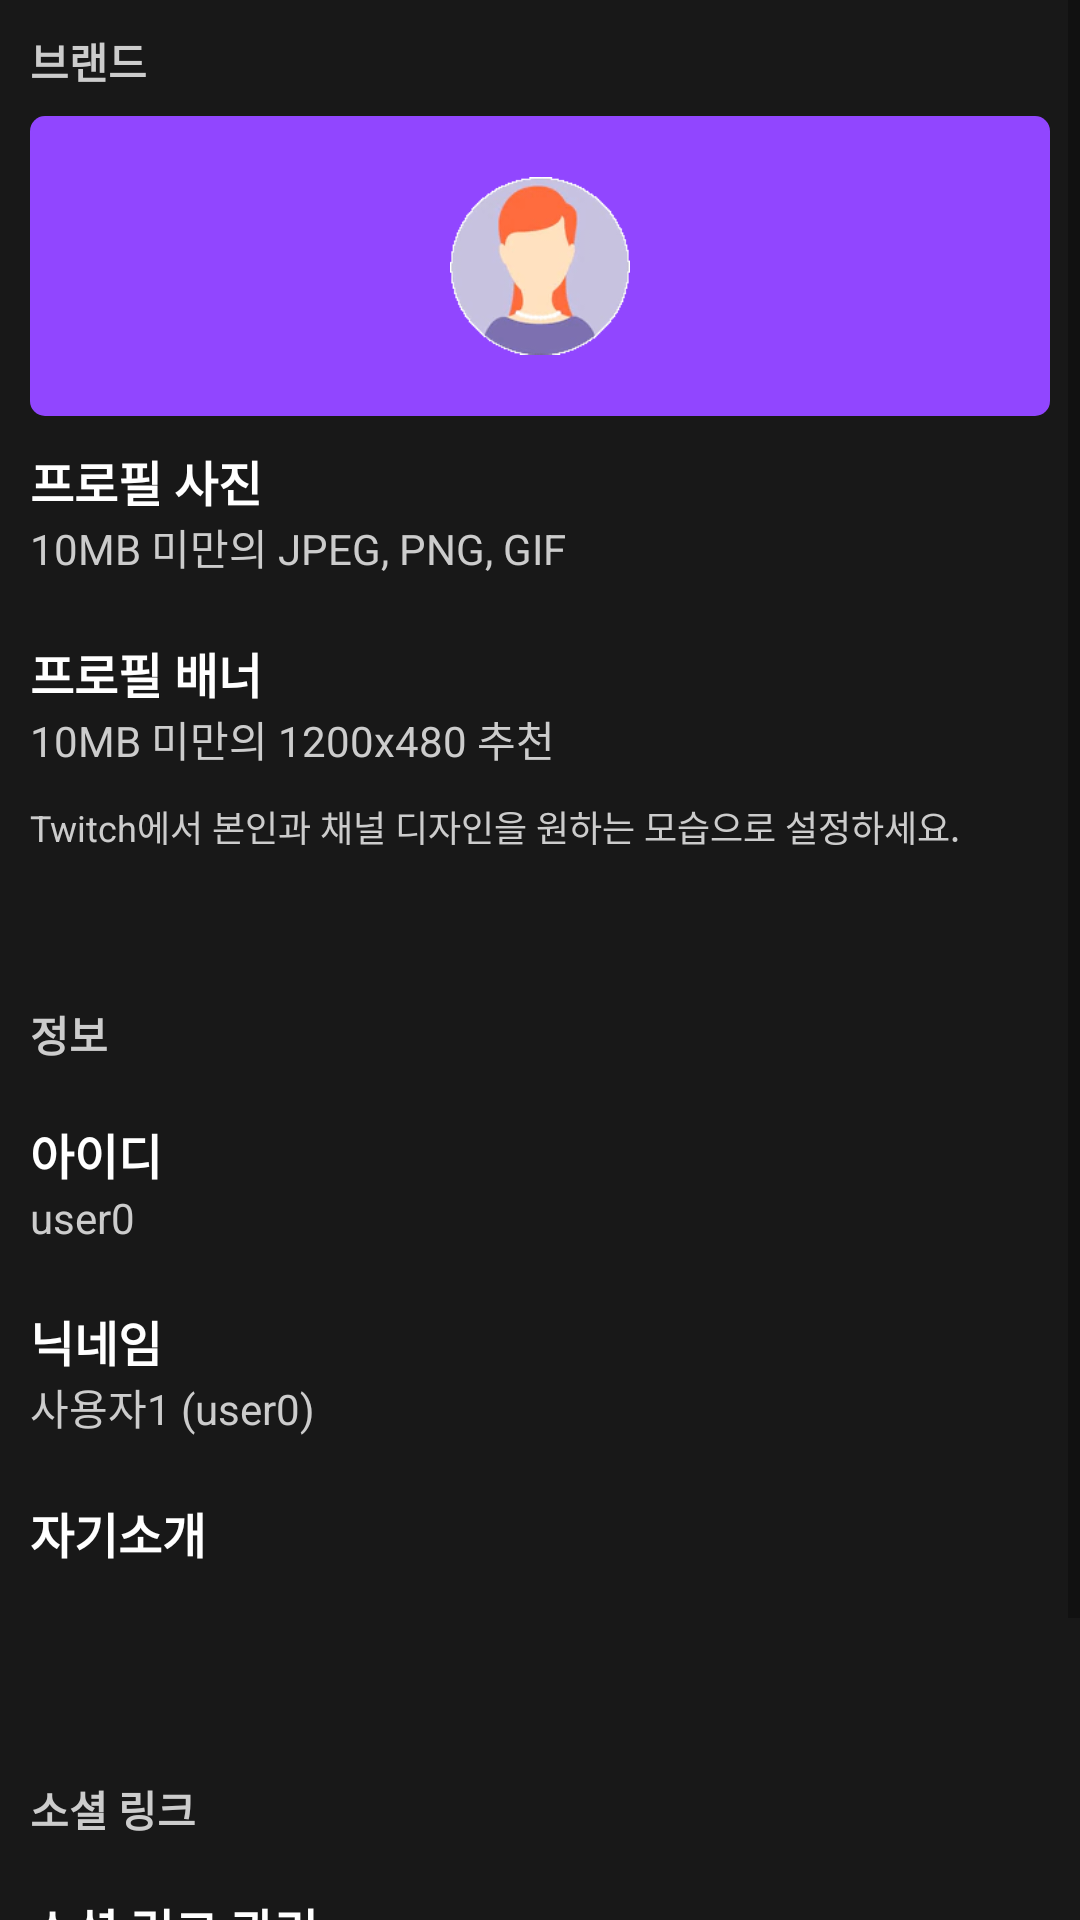

Icons on this 1080*1920 Android screen, each with the point to tap as (x=x, y=y):
profile: (x=540, y=266)
